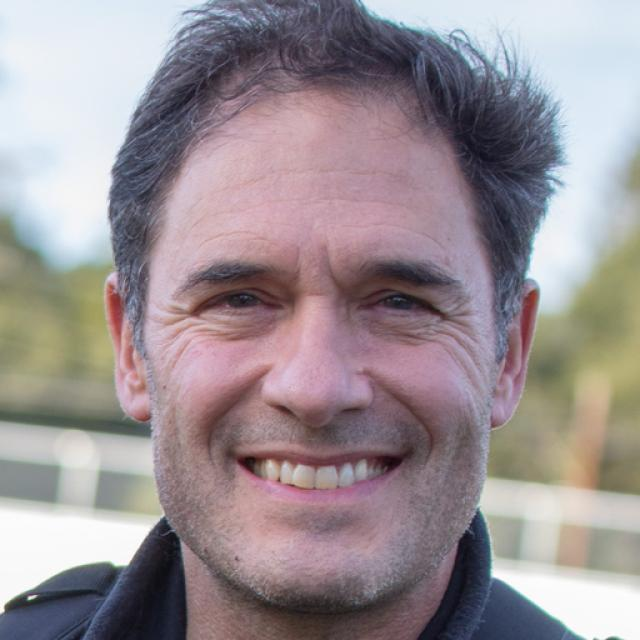Acne: (349, 358, 371, 380), (439, 248, 456, 270)
Wrinkle: (188, 193, 422, 223), (207, 366, 269, 471), (377, 376, 436, 468), (337, 220, 445, 258), (198, 224, 264, 249), (324, 247, 346, 293)
